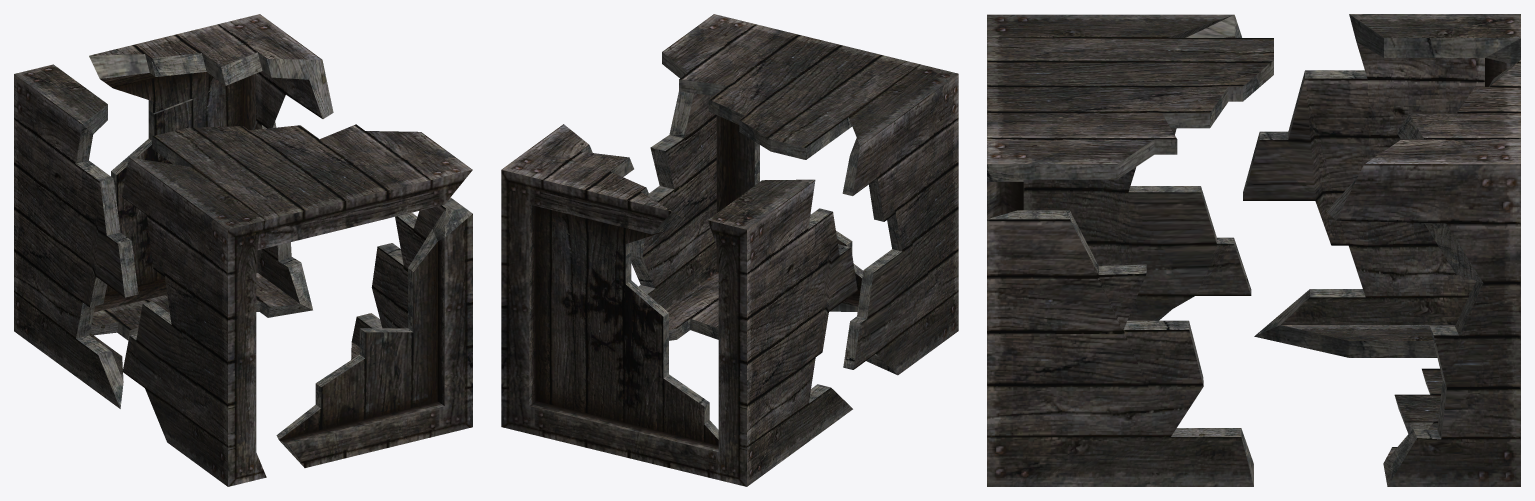
The model's file is wood_box01_broken.dae.
3 views of the same model, side by side, from view 1: azimuth 30°, elevation 25°; view 2: azimuth 150°, elevation 25°; view 3: azimuth 270°, elevation 25° (orthographic). The views are drawn at different scales.
Visible parts, largest first — view 1: polySurface27, polySurface19, polySurface25, polySurface21, polySurface23, polySurface17; view 2: polySurface17, polySurface25, polySurface27, polySurface21, polySurface19, polySurface23; view 3: polySurface19, polySurface25, polySurface21, polySurface27, polySurface23, polySurface17.
Part boxes in pixels (x1,y1,x2,y2): polySurface27: (122, 157, 266, 486); polySurface19: (276, 197, 472, 467); polySurface25: (14, 64, 138, 408); polySurface21: (152, 124, 472, 250); polySurface23: (89, 14, 333, 130); polySurface17: (90, 99, 312, 340); polySurface17: (501, 241, 718, 478); polySurface25: (707, 179, 857, 486); polySurface27: (842, 64, 958, 375); polySurface21: (662, 14, 919, 159); polySurface19: (630, 91, 862, 340); polySurface23: (501, 124, 682, 304); polySurface19: (987, 210, 1253, 486); polySurface25: (1243, 14, 1520, 357); polySurface21: (987, 38, 1273, 181); polySurface27: (987, 14, 1251, 320); polySurface23: (1326, 60, 1520, 283); polySurface17: (1383, 281, 1520, 486).
Size of the model in its own units: 0.6 by 0.6 by 0.9.
